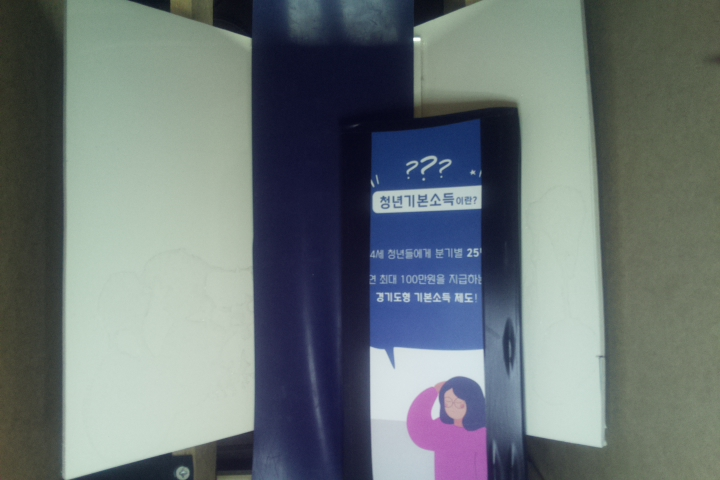book: (349, 106, 522, 480)
